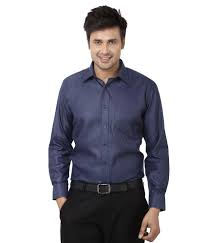F_belt: (66, 176, 149, 198)
F_dress pants: (61, 178, 147, 243)
F_shirt: (38, 57, 181, 212)
